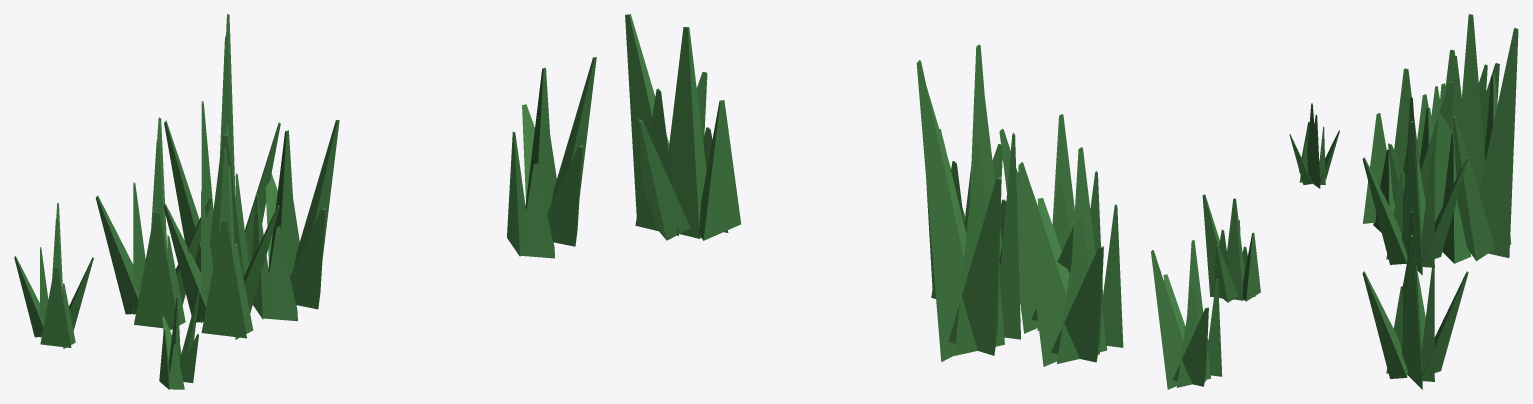
File: GrassColoured.fbx
3 views of the same model, side by side, from view 1: azimuth 30°, elevation 25°; view 2: azimuth 150°, elevation 25°; view 3: azimuth 270°, elevation 25° (orthographic). The views are drawn at different scales.
Visible parts, largest first — view 1: bigGrass, smallGrass; view 2: bigGrass, smallGrass; view 3: bigGrass, smallGrass.
Part boxes in pixels (box(x1,y1,x2,y2)): bigGrass: box(14, 14, 339, 389); smallGrass: box(507, 57, 596, 258); bigGrass: box(916, 44, 1260, 389); smallGrass: box(625, 14, 741, 240); bigGrass: box(1289, 14, 1518, 275); smallGrass: box(1362, 211, 1468, 389).
Bounding box in the file's own units: 6.2 × 2.88 × 2.48.
